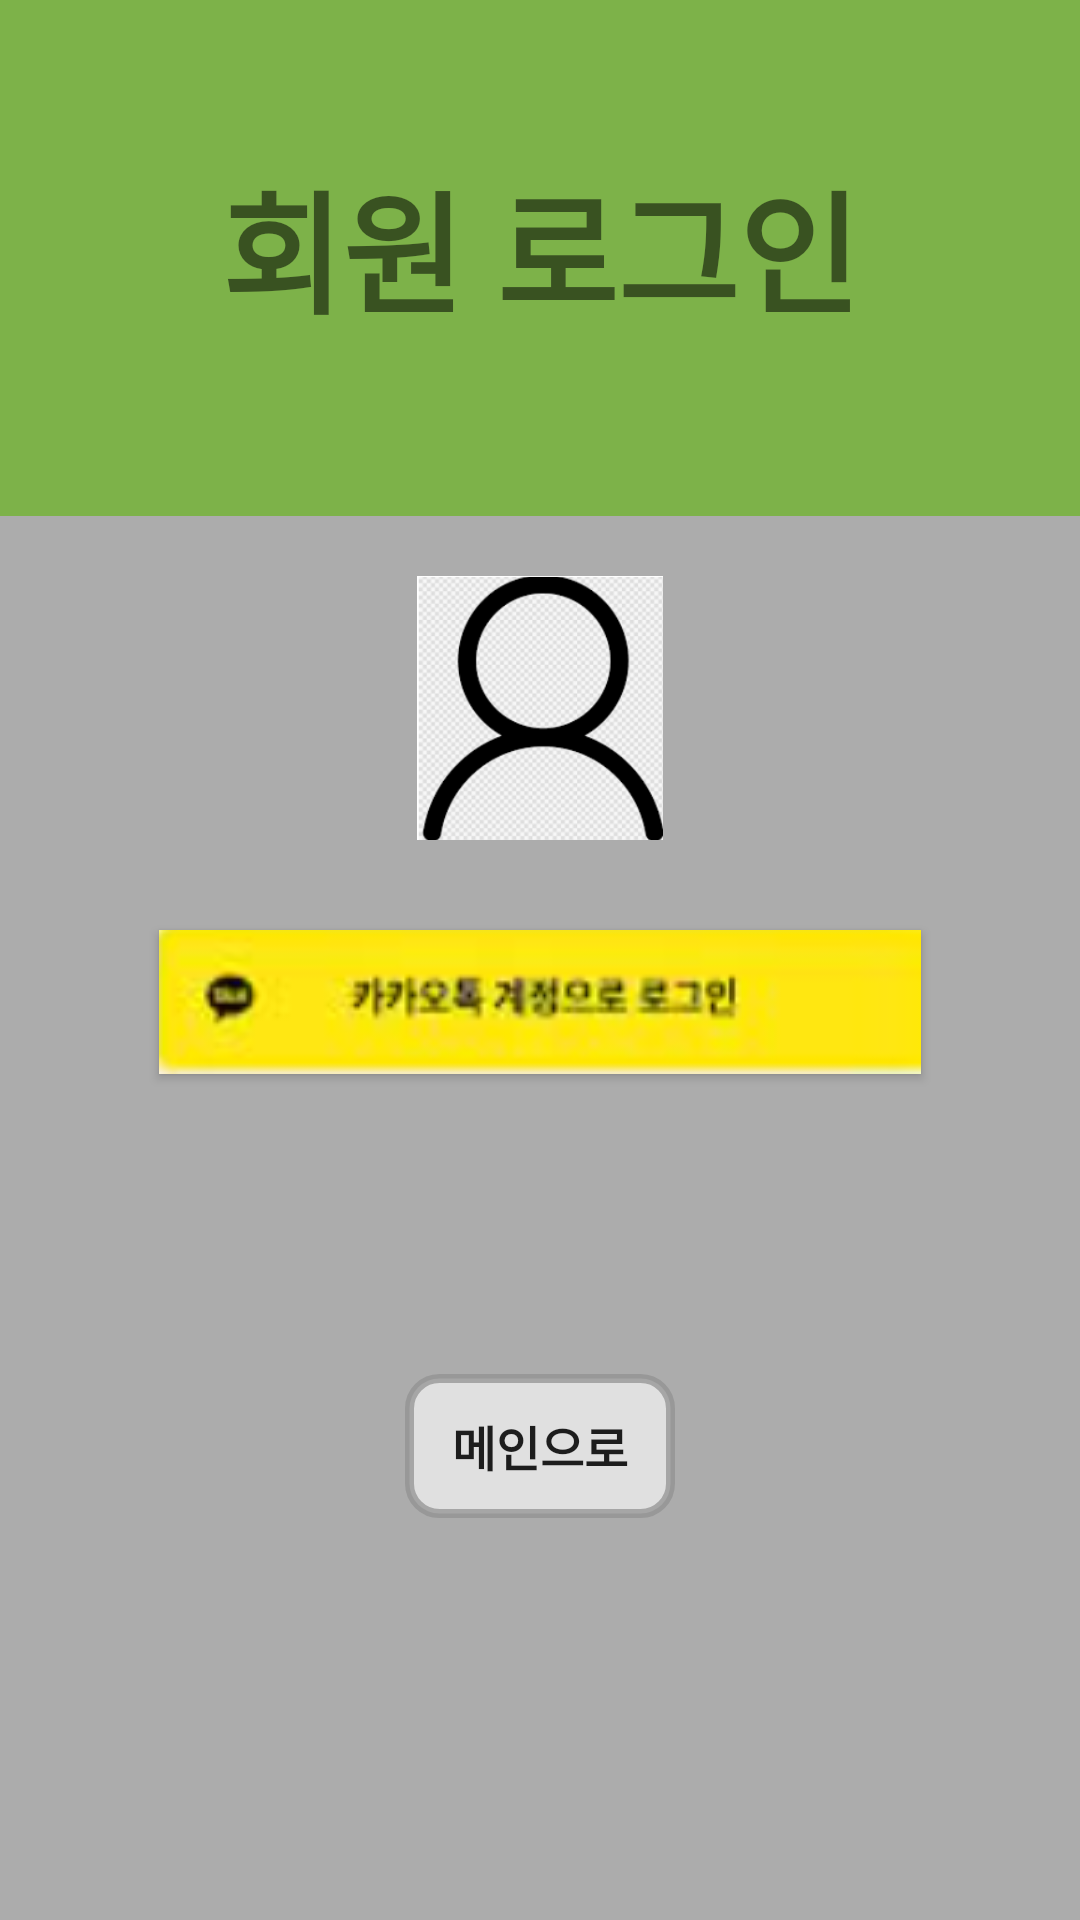

Icon bounding boxes for this 1080 x 1920 phone screenshot, format (x1,y1,x2,y2):
loginimg: (417,576,663,840)
